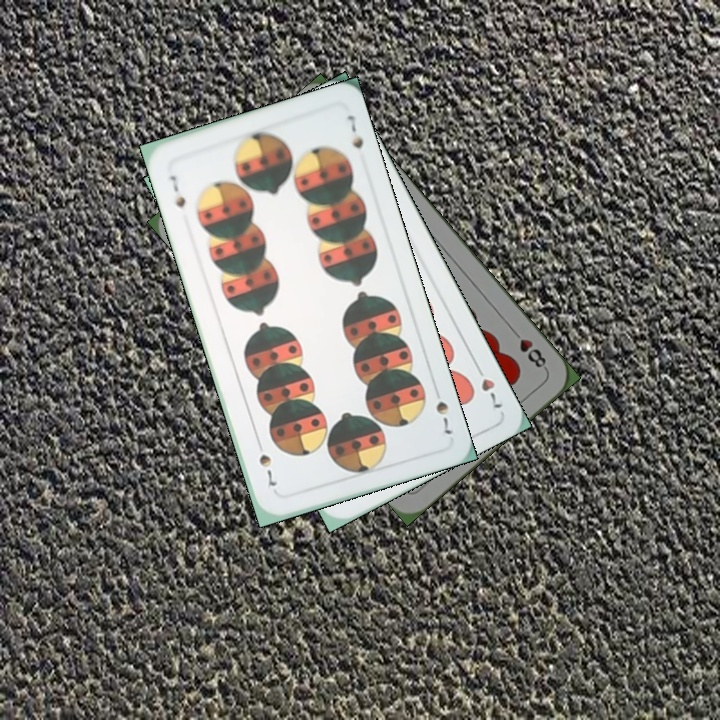H7: (471, 358, 505, 411)
H8: (507, 324, 550, 373)
S7: (429, 382, 456, 437), (166, 171, 189, 210)
